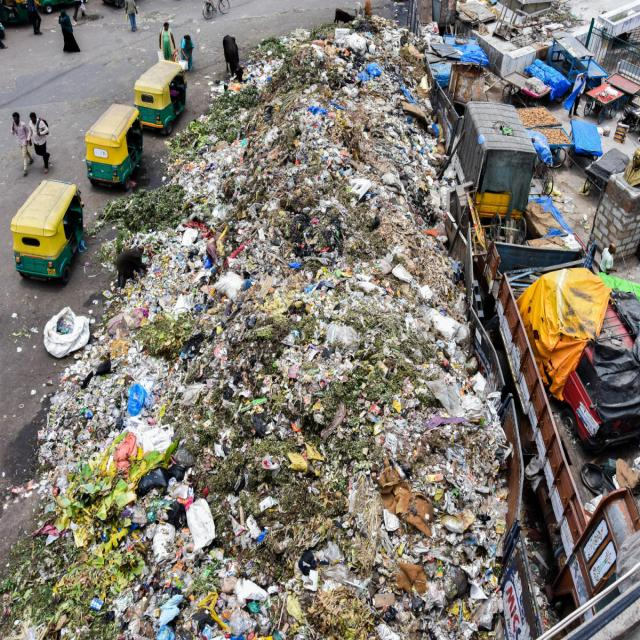garbage: (27, 17, 553, 640)
